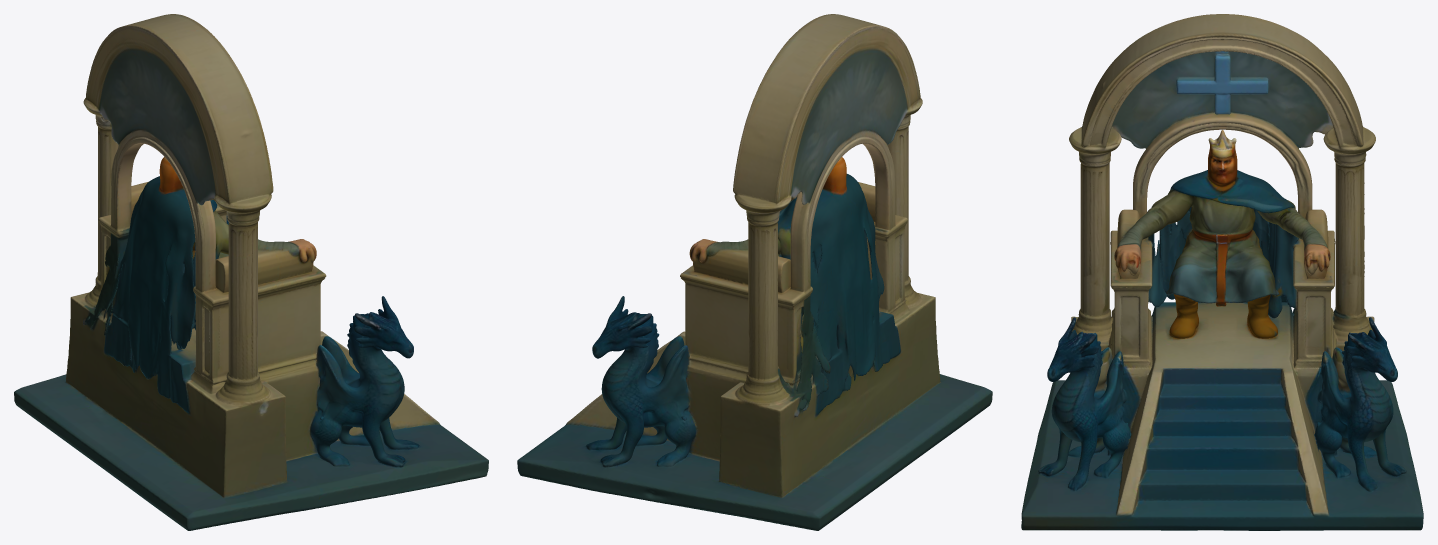
File: Blue-Monarch-figure.glb
3 renders of one model, left to right at view 1: azimuth 30°, elevation 25°; view 2: azimuth 150°, elevation 25°; view 3: azimuth 270°, elevation 25°, orthographic. The views are drawn at different scales.
Visible parts, largest first — view 1: tripo_node_d0b91c81-6e30-4000-b06e-d0de6b6a3a17; view 2: tripo_node_d0b91c81-6e30-4000-b06e-d0de6b6a3a17; view 3: tripo_node_d0b91c81-6e30-4000-b06e-d0de6b6a3a17.
Part boxes in pixels (x1=…): tripo_node_d0b91c81-6e30-4000-b06e-d0de6b6a3a17: x1=14, y1=14, x2=488, y2=530; tripo_node_d0b91c81-6e30-4000-b06e-d0de6b6a3a17: x1=517, y1=14, x2=992, y2=530; tripo_node_d0b91c81-6e30-4000-b06e-d0de6b6a3a17: x1=1021, y1=14, x2=1423, y2=530.
Size of the model in its own units: 0.7111 by 0.9999 by 0.888.
Materials: 1 (1 with a texture image).
